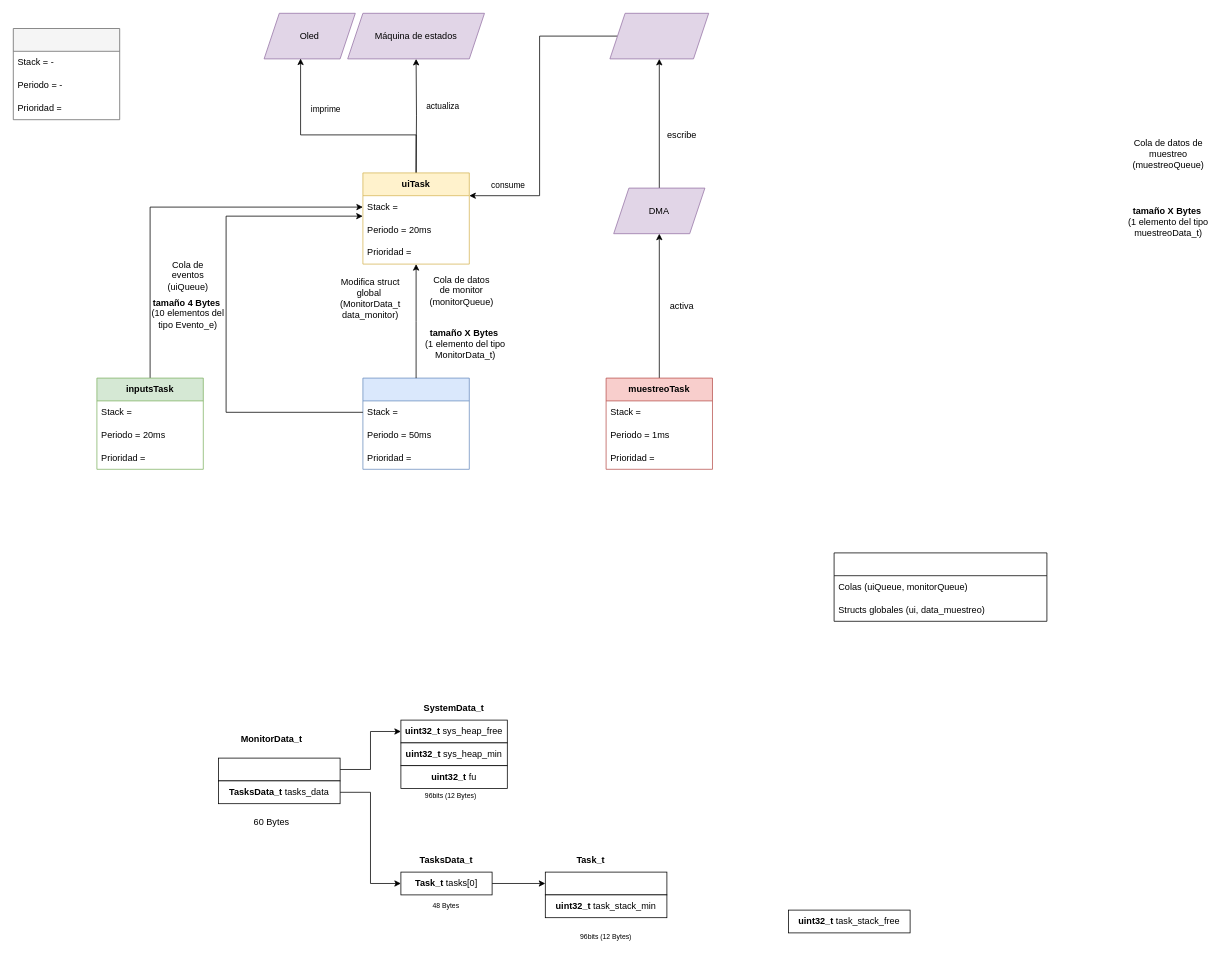
Image size: 1224x961. Some labels were removed from this diagram. Each missing label, with the box of its shape:
Datos muestreo: (609, 13, 709, 59)
defaultTask: (13, 28, 120, 120)
HEAP: (833, 552, 1047, 621)
monitorTask: (362, 377, 469, 469)
SystemData_t system_data: (218, 757, 340, 781)
TaskID_e ID: (545, 871, 667, 895)
